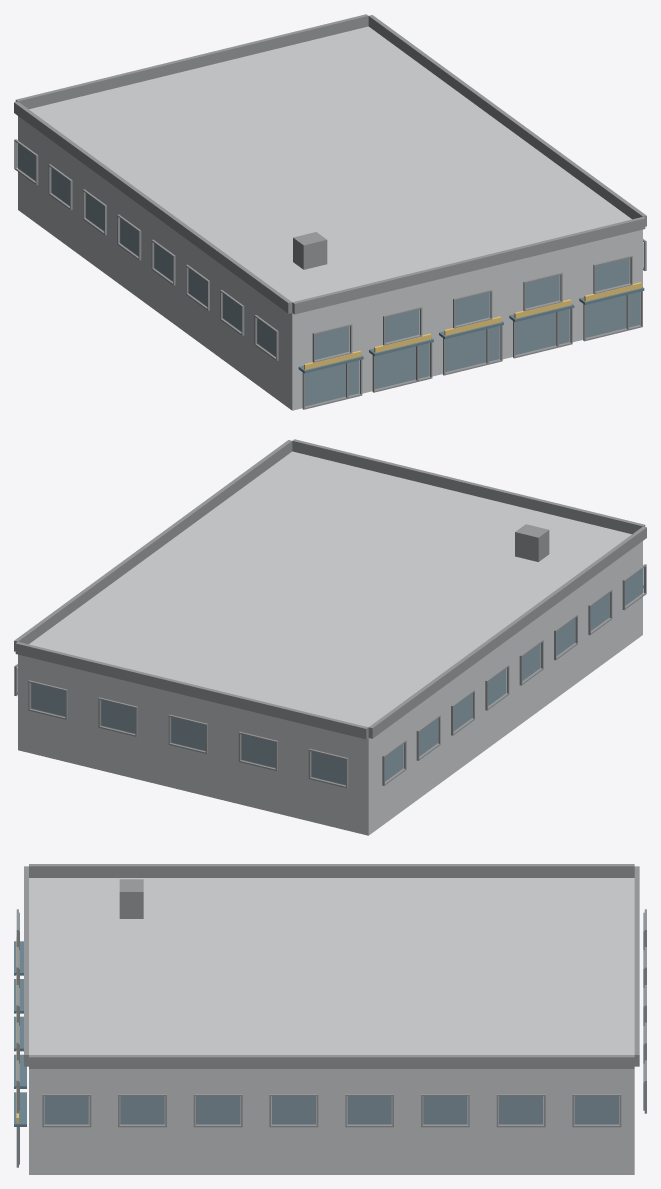
The model's file is commercial_3x4_a.glb.
The picture shows the model from 3 angles, top to bottom: view 1: azimuth 30°, elevation 25°; view 2: azimuth 150°, elevation 25°; view 3: azimuth 270°, elevation 25°; orthographic projection. The views are drawn at different scales.
Visible parts, largest first — view 1: commercial_3x4_a_0; view 2: commercial_3x4_a_0; view 3: commercial_3x4_a_0.
Boxes of the visible parts, x1,y1,x2,y2 form: commercial_3x4_a_0: (14,14,646,410); commercial_3x4_a_0: (14,439,646,835); commercial_3x4_a_0: (14,864,646,1174).
Bounding box in the file's own units: 23.74 × 7.5 × 31.87.
